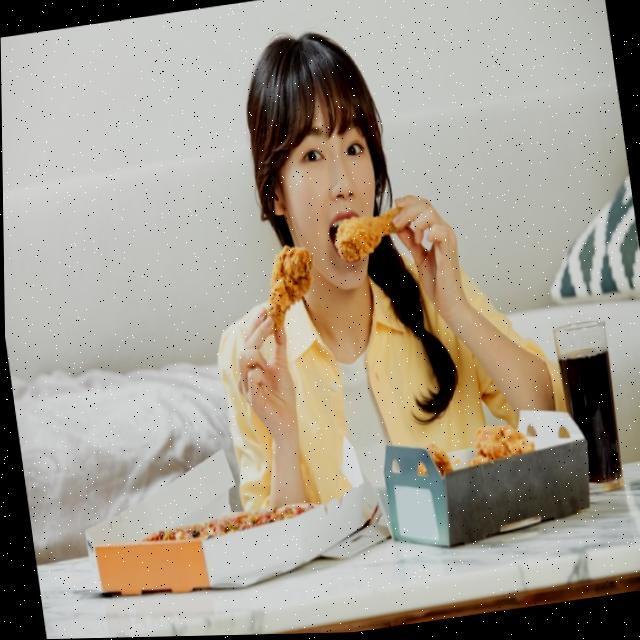eating-person: (166, 0, 600, 545)
